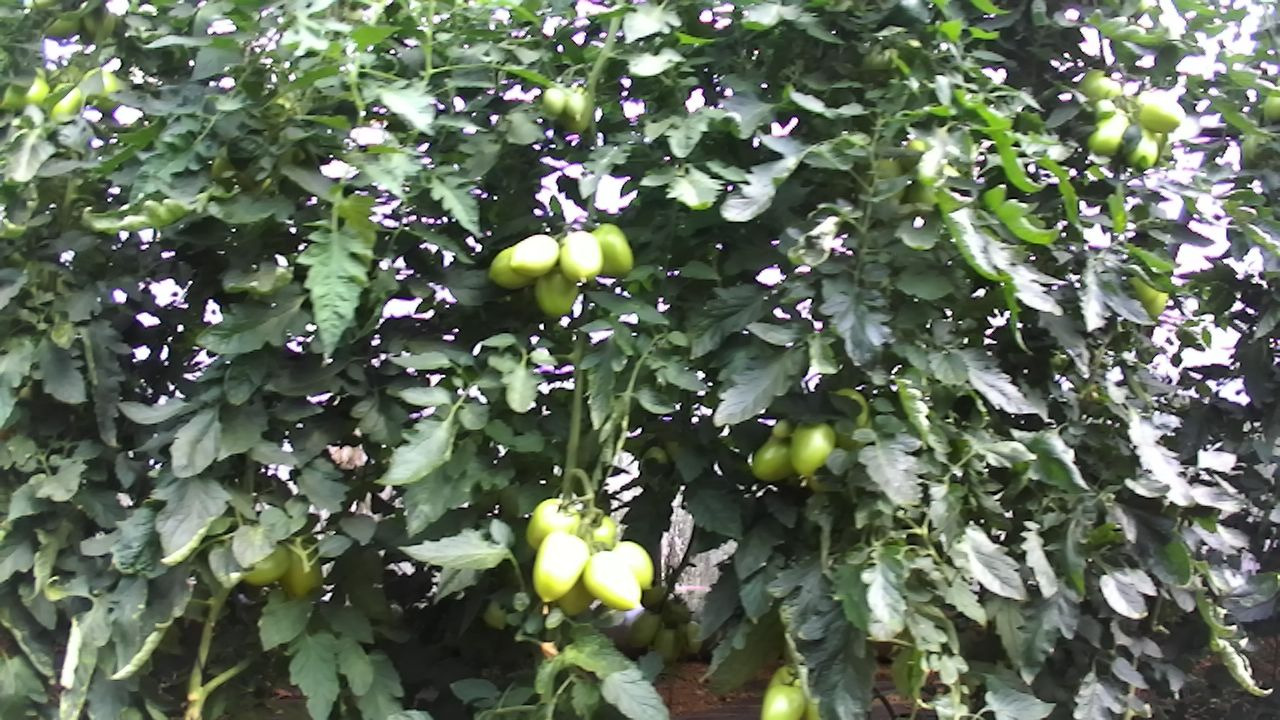tomato: (529, 527, 591, 603), (579, 548, 645, 614), (521, 492, 584, 554), (787, 415, 837, 482), (237, 539, 294, 590), (746, 430, 796, 485), (587, 220, 635, 277), (557, 228, 605, 284), (508, 232, 560, 279), (532, 270, 580, 317), (1137, 90, 1187, 135), (758, 680, 808, 720), (540, 85, 566, 116), (564, 91, 585, 121)
